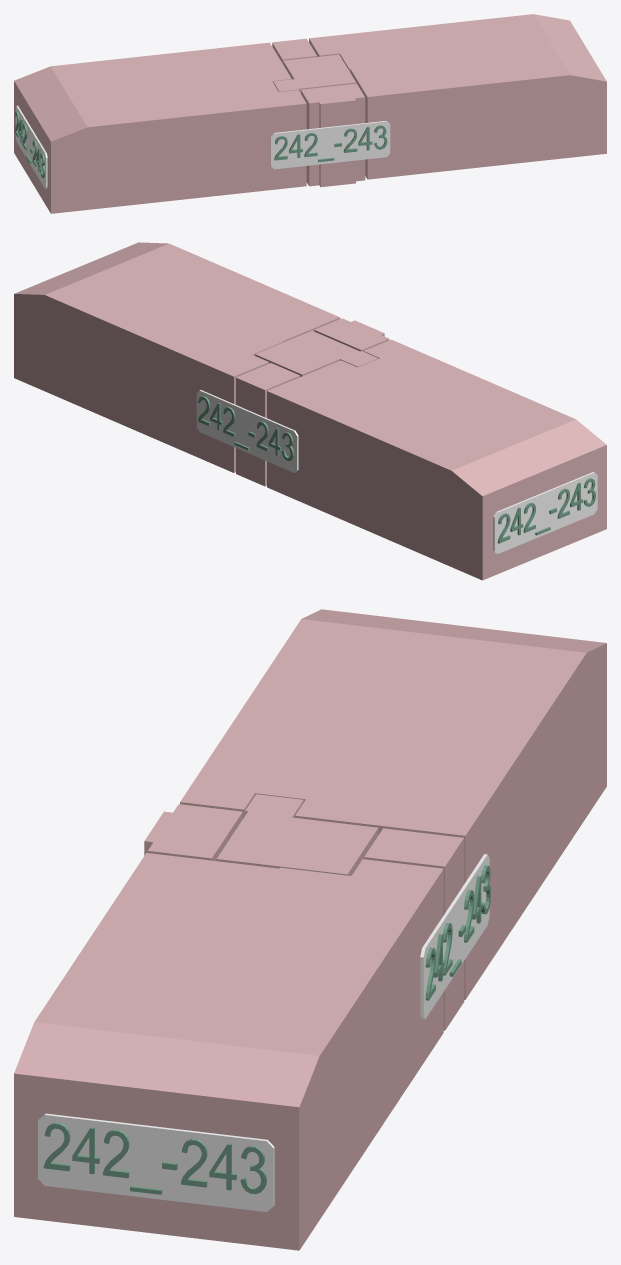
3 renders of one model, top to bottom at view 1: azimuth 30°, elevation 25°; view 2: azimuth 150°, elevation 25°; view 3: azimuth 270°, elevation 25°, orthographic. The views are drawn at different scales.
Visible parts, largest first — view 1: g_1, g_0, g_3, g_13, g_2, g_40, g_4; view 2: g_1, g_0, g_22, g_40, g_2, g_4, g_3; view 3: g_0, g_1, g_31, g_2, g_4, g_3, g_22.
Part boxes in pixels (left/top/right/bottom): g_1: left=14, top=42, right=306, bottom=213; g_0: left=309, top=14, right=606, bottom=179; g_3: left=301, top=83, right=365, bottom=187; g_13: left=270, top=121, right=390, bottom=169; g_2: left=273, top=54, right=356, bottom=93; g_40: left=15, top=105, right=47, bottom=188; g_4: left=272, top=38, right=317, bottom=64; g_1: left=267, top=339, right=606, bottom=580; g_0: left=14, top=242, right=340, bottom=472; g_22: left=196, top=390, right=298, bottom=472; g_40: left=493, top=472, right=597, bottom=553; g_2: left=255, top=330, right=378, bottom=376; g_4: left=236, top=363, right=300, bottom=486; g_3: left=314, top=318, right=389, bottom=351; g_0: left=14, top=853, right=443, bottom=1250; g_1: left=180, top=609, right=606, bottom=999; g_31: left=38, top=1113, right=274, bottom=1211; g_2: left=216, top=794, right=378, bottom=875; g_4: left=364, top=828, right=464, bottom=1030; g_3: left=144, top=804, right=242, bottom=860; g_22: left=420, top=854, right=489, bottom=1019.
Size of the model in its own units: 16.82 by 2.6 by 8.46.
